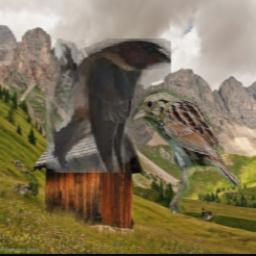Sparrow: (132, 88, 242, 213)
Swallow: (47, 40, 172, 174)
